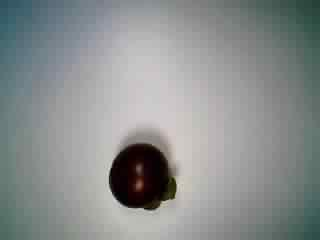mangosteen: (106, 140, 178, 212)
